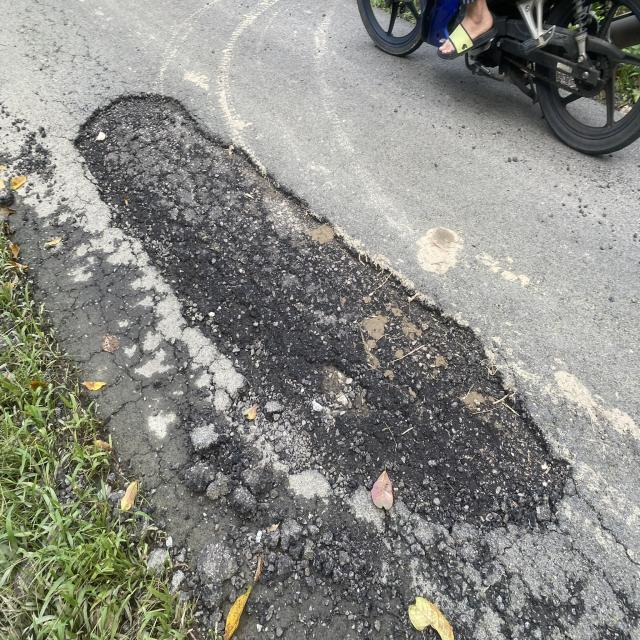pothole: (66, 67, 623, 549)
